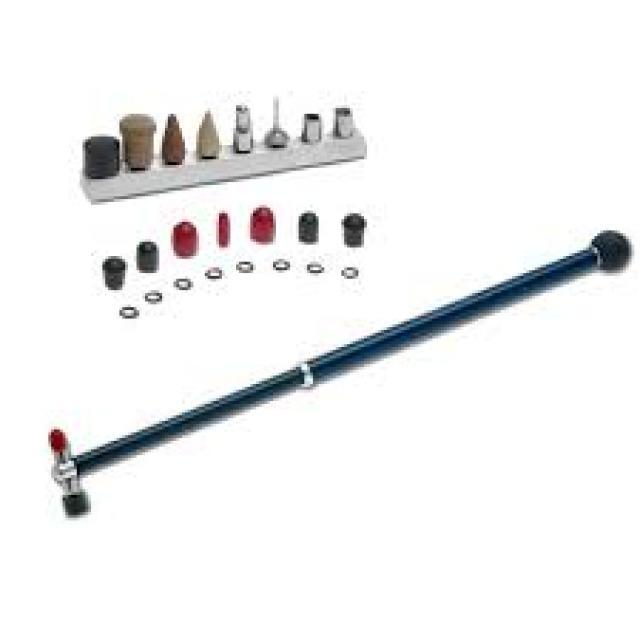hammer: (35, 222, 640, 532)
